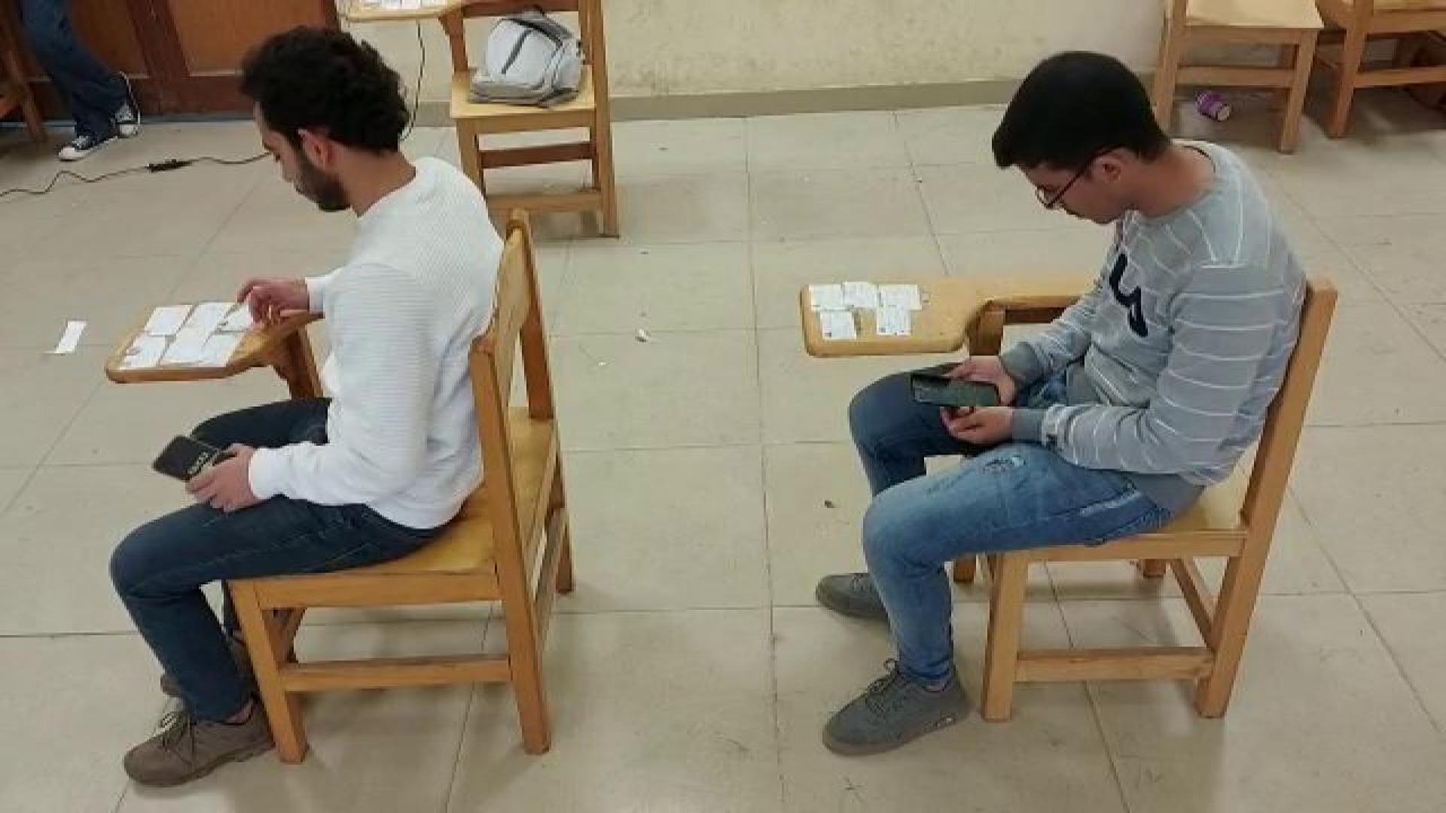phone: (151, 432, 233, 483), (908, 369, 1005, 409)
